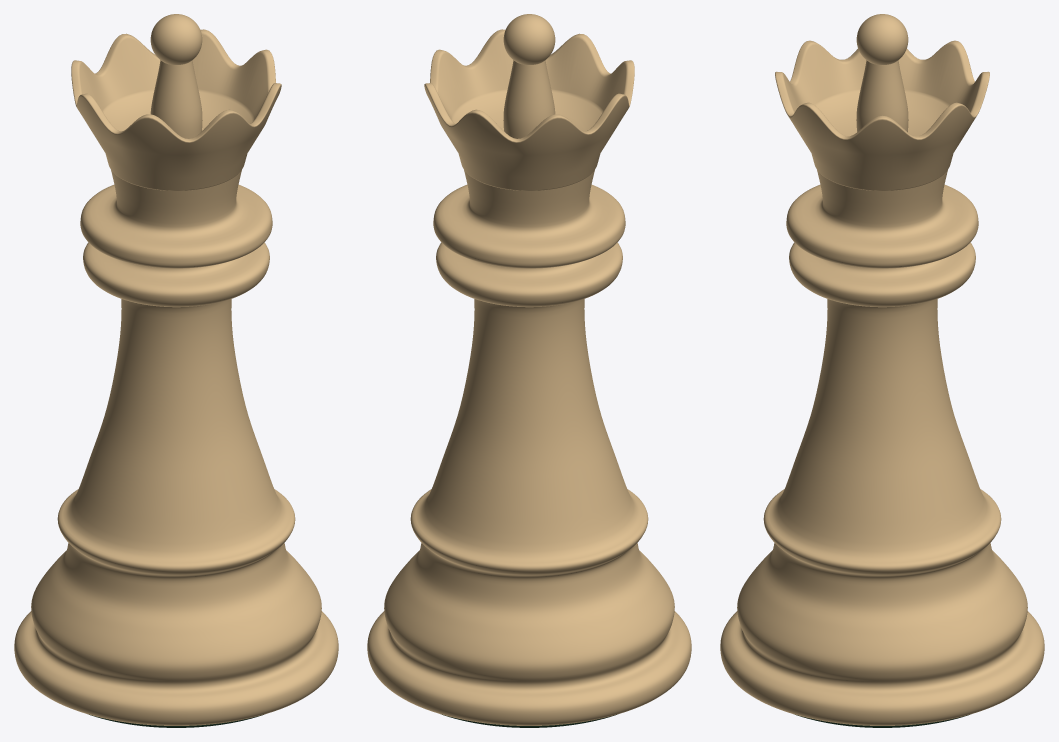
Rendered from queen.glb.
The picture shows the model from 3 angles, left to right: view 1: azimuth 30°, elevation 25°; view 2: azimuth 150°, elevation 25°; view 3: azimuth 270°, elevation 25°; orthographic projection.
Parts seen in each view (by area): view 1: Queen.001; view 2: Queen.001; view 3: Queen.001.
Boxes of the visible parts, x1,y1,x2,y2 form: Queen.001: (14, 14, 338, 727); Queen.001: (367, 14, 691, 727); Queen.001: (720, 14, 1044, 727).
Size of the model in its own units: 0.0382 by 0.085 by 0.0382.
